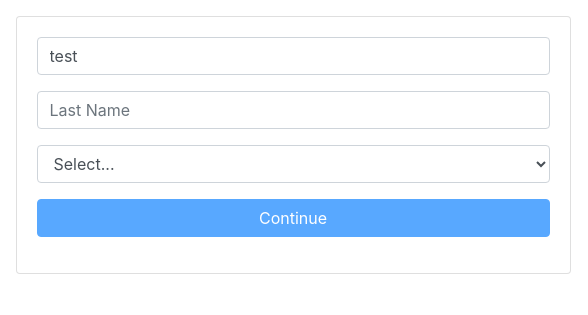
Test: Submit button › should not submit if lastName has symbols
This screenshot has width=588, height=315.
Type "@" into the field titled "lastName" at (293, 110), box [36, 91, 550, 129]
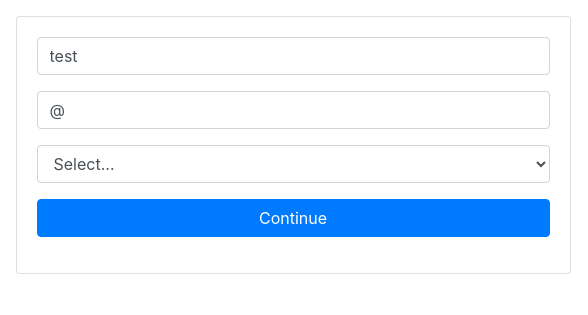
Click the button with test id "submit-btn" at (293, 218), box [36, 199, 550, 237]
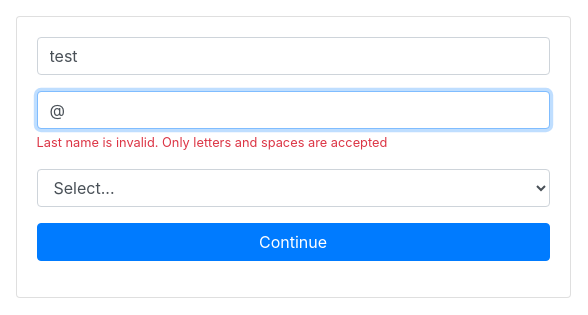
Result: the text with test id "last-name-validation-error" reads "Last name is invalid. Only letters and spaces are accepted" at [36, 135, 387, 150]
